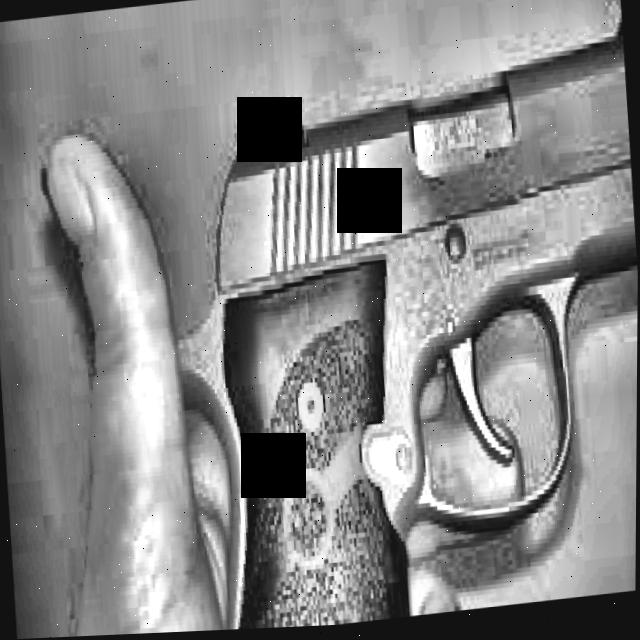Kahr: (152, 14, 640, 635)
